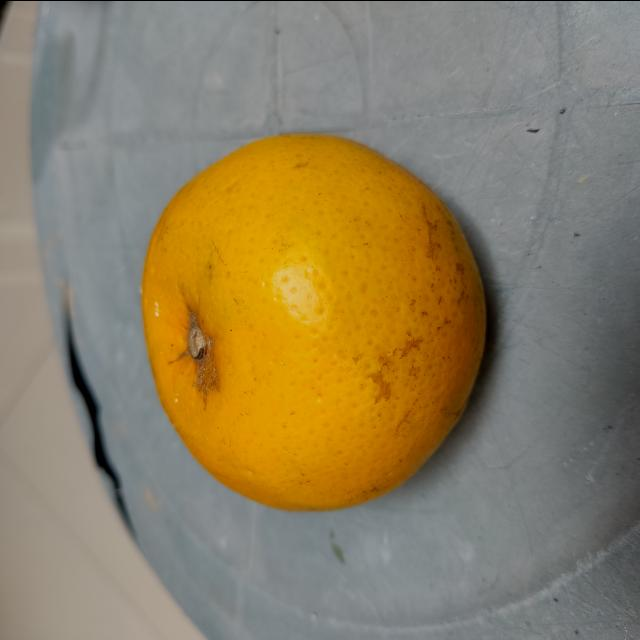orange: (138, 127, 490, 513)
